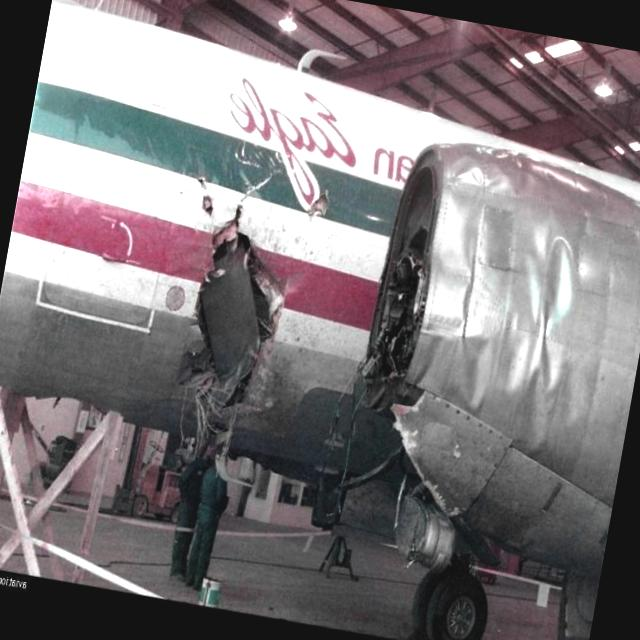dent: (396, 188, 596, 458)
